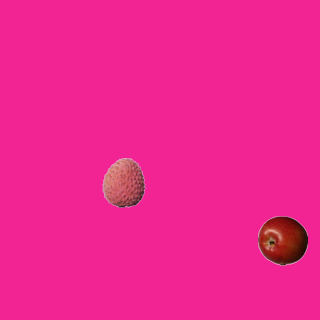Apple Braeburn: (257, 215, 307, 265)
Lychee: (98, 157, 148, 207)
